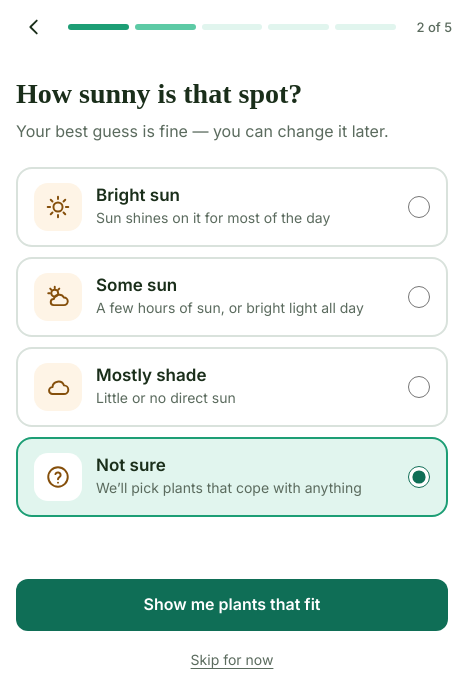
Test case: Step 3 — how sunny is that spot? › goes back to step 2, for guests and signed-in users alike
Check: the heading "How sunny is that spot?" is shown, box [16,78,302,109]
Click the link named "Back" at (34, 27), box [23,16,45,38]
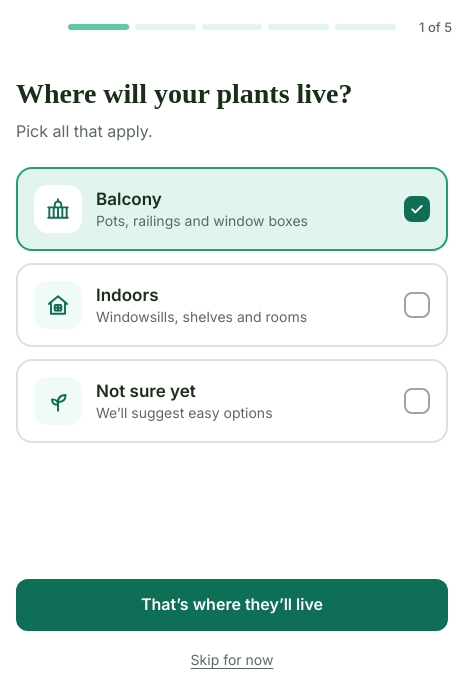
Check: the heading "Where will your plants live?" is shown, box [16,78,352,109]
